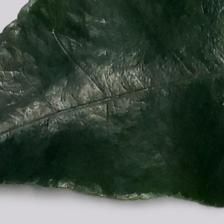healthy: (2, 3, 224, 197)
